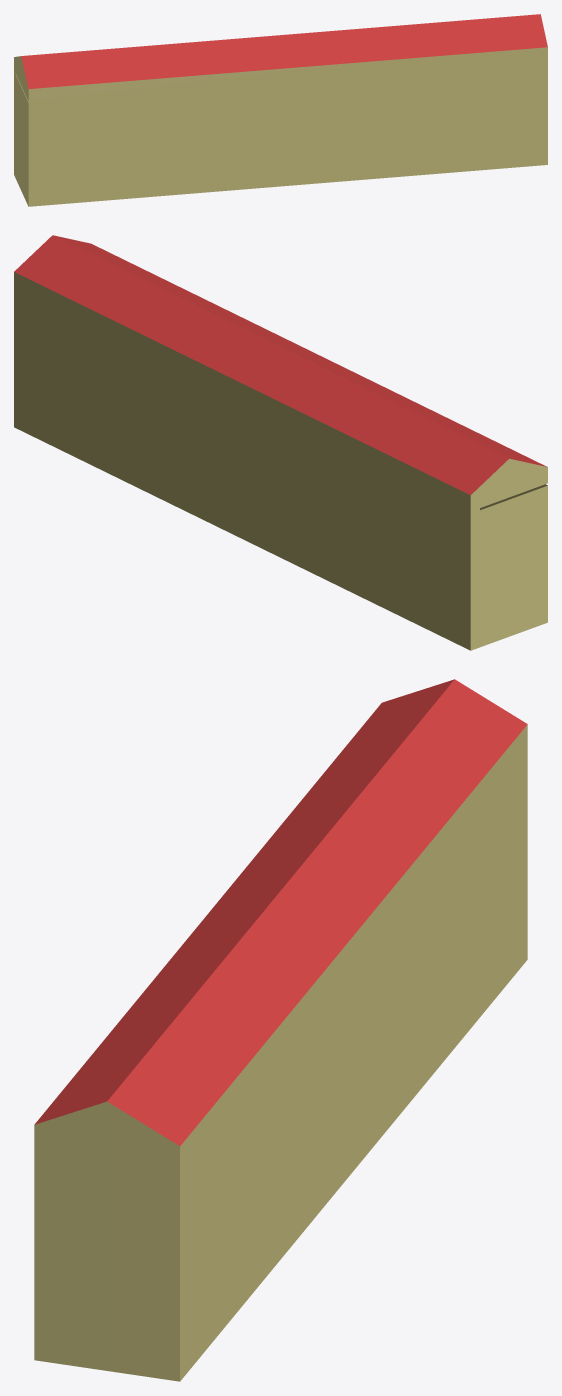
3 views of the same model, one above another, from view 1: azimuth 30°, elevation 25°; view 2: azimuth 150°, elevation 25°; view 3: azimuth 270°, elevation 25° (orthographic). The views are drawn at different scales.
Visible parts, largest first — view 1: group_4, group_3; view 2: group_4, group_3; view 3: group_4, group_3.
Part boxes in pixels (x1,y1,x2,y2): group_4: (14,47,547,206); group_3: (21,14,547,89); group_4: (14,272,547,650); group_3: (14,235,546,495); group_4: (34,725,527,1381); group_3: (34,679,527,1145).
Bounding box in the file's own units: 28.4 × 13.35 × 8.04.
